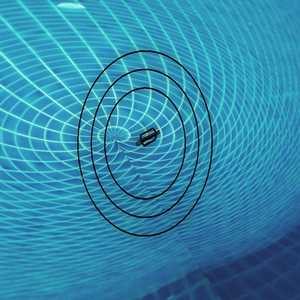circle: (72, 41, 222, 248)
submarine: (136, 128, 161, 143)
